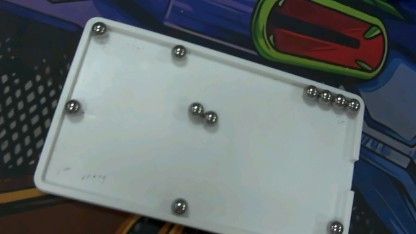ironball: (86, 16, 109, 39), (184, 99, 204, 120), (202, 108, 220, 130), (63, 96, 81, 117), (168, 42, 187, 61), (170, 198, 190, 214), (317, 87, 333, 106), (333, 89, 345, 114), (345, 92, 358, 114), (324, 219, 344, 232), (303, 82, 316, 100)
